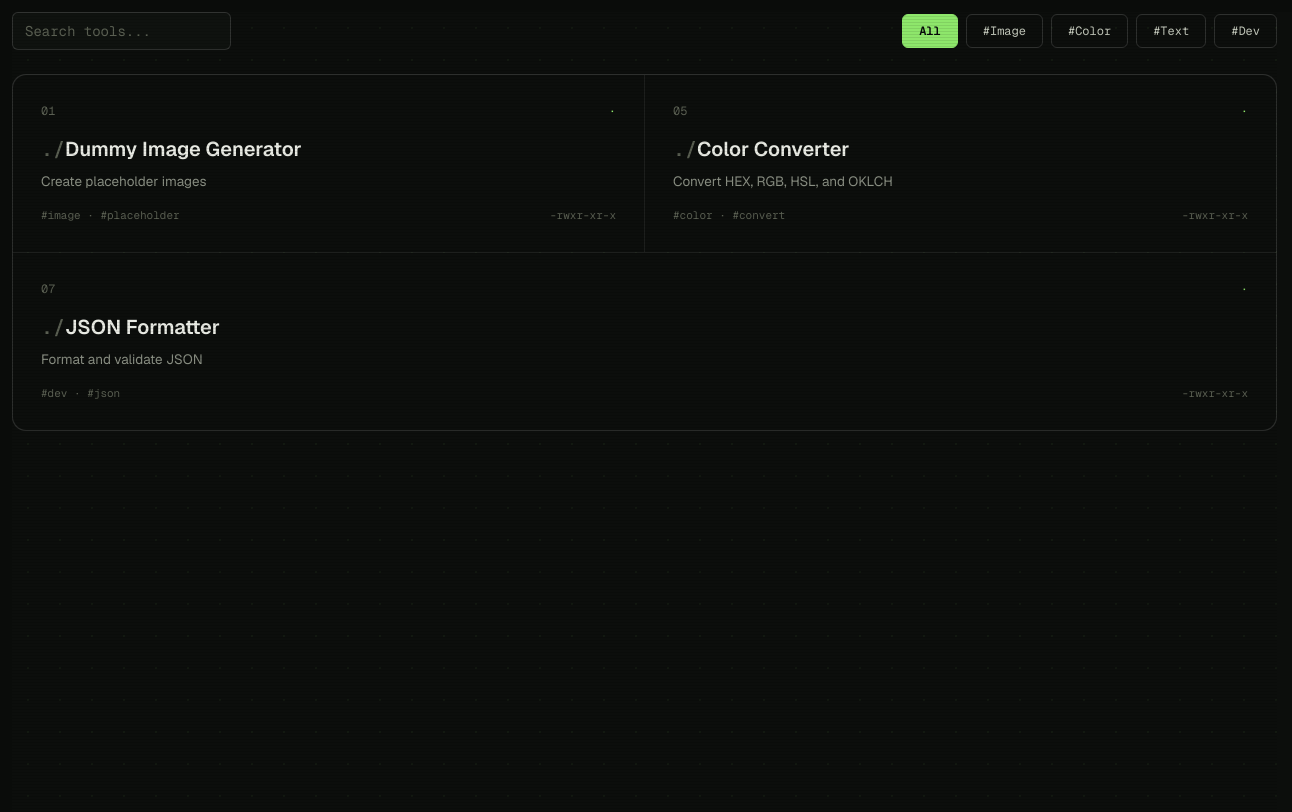
Test: ToolCatalogBrowser › filters by search query across title, description, and tag
Type "json" into the search field labelled "Search tools".
click(122, 31); type("json")  # box 12,12 -> 231,50
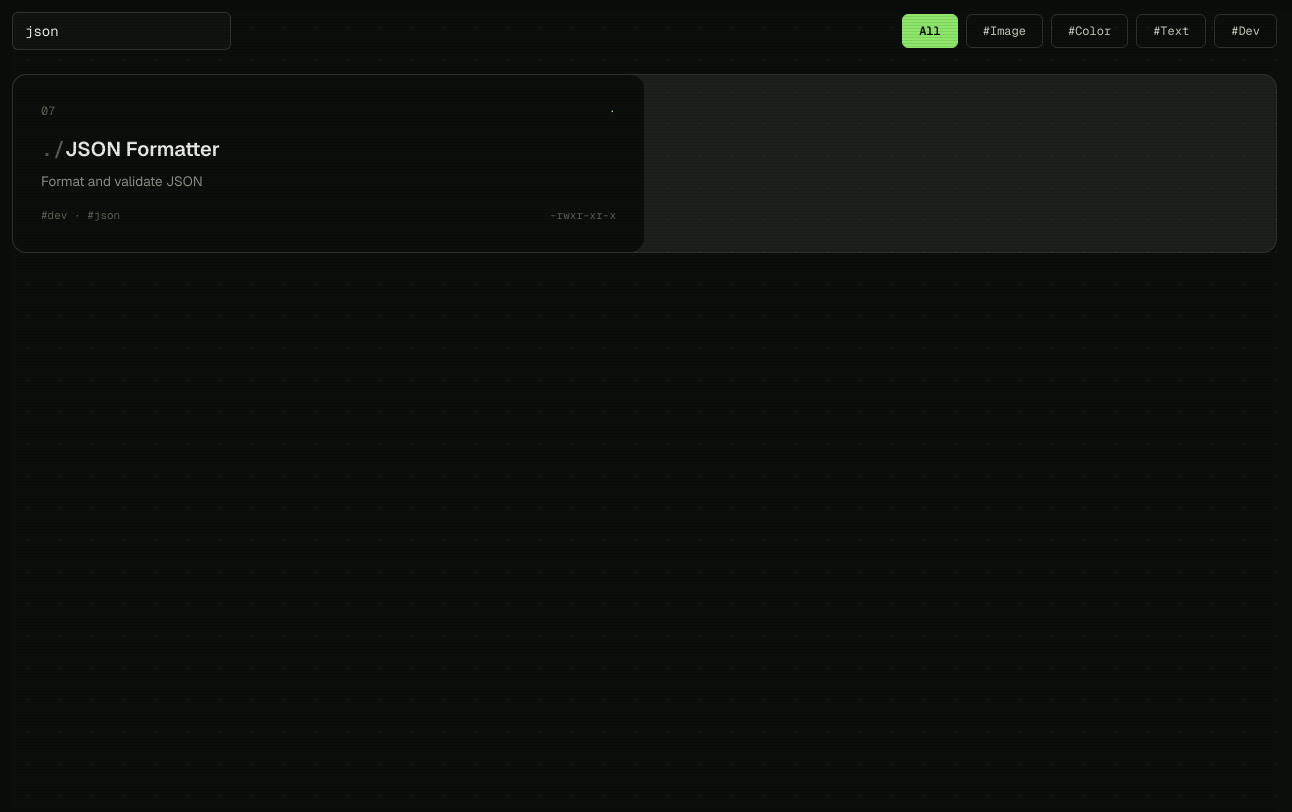
Expected: the heading "./JSON Formatter" is shown, 41,136 -> 220,162
Expected: the link "Dummy Image Generator" is gone
Expected: the link "Color Converter" is gone
